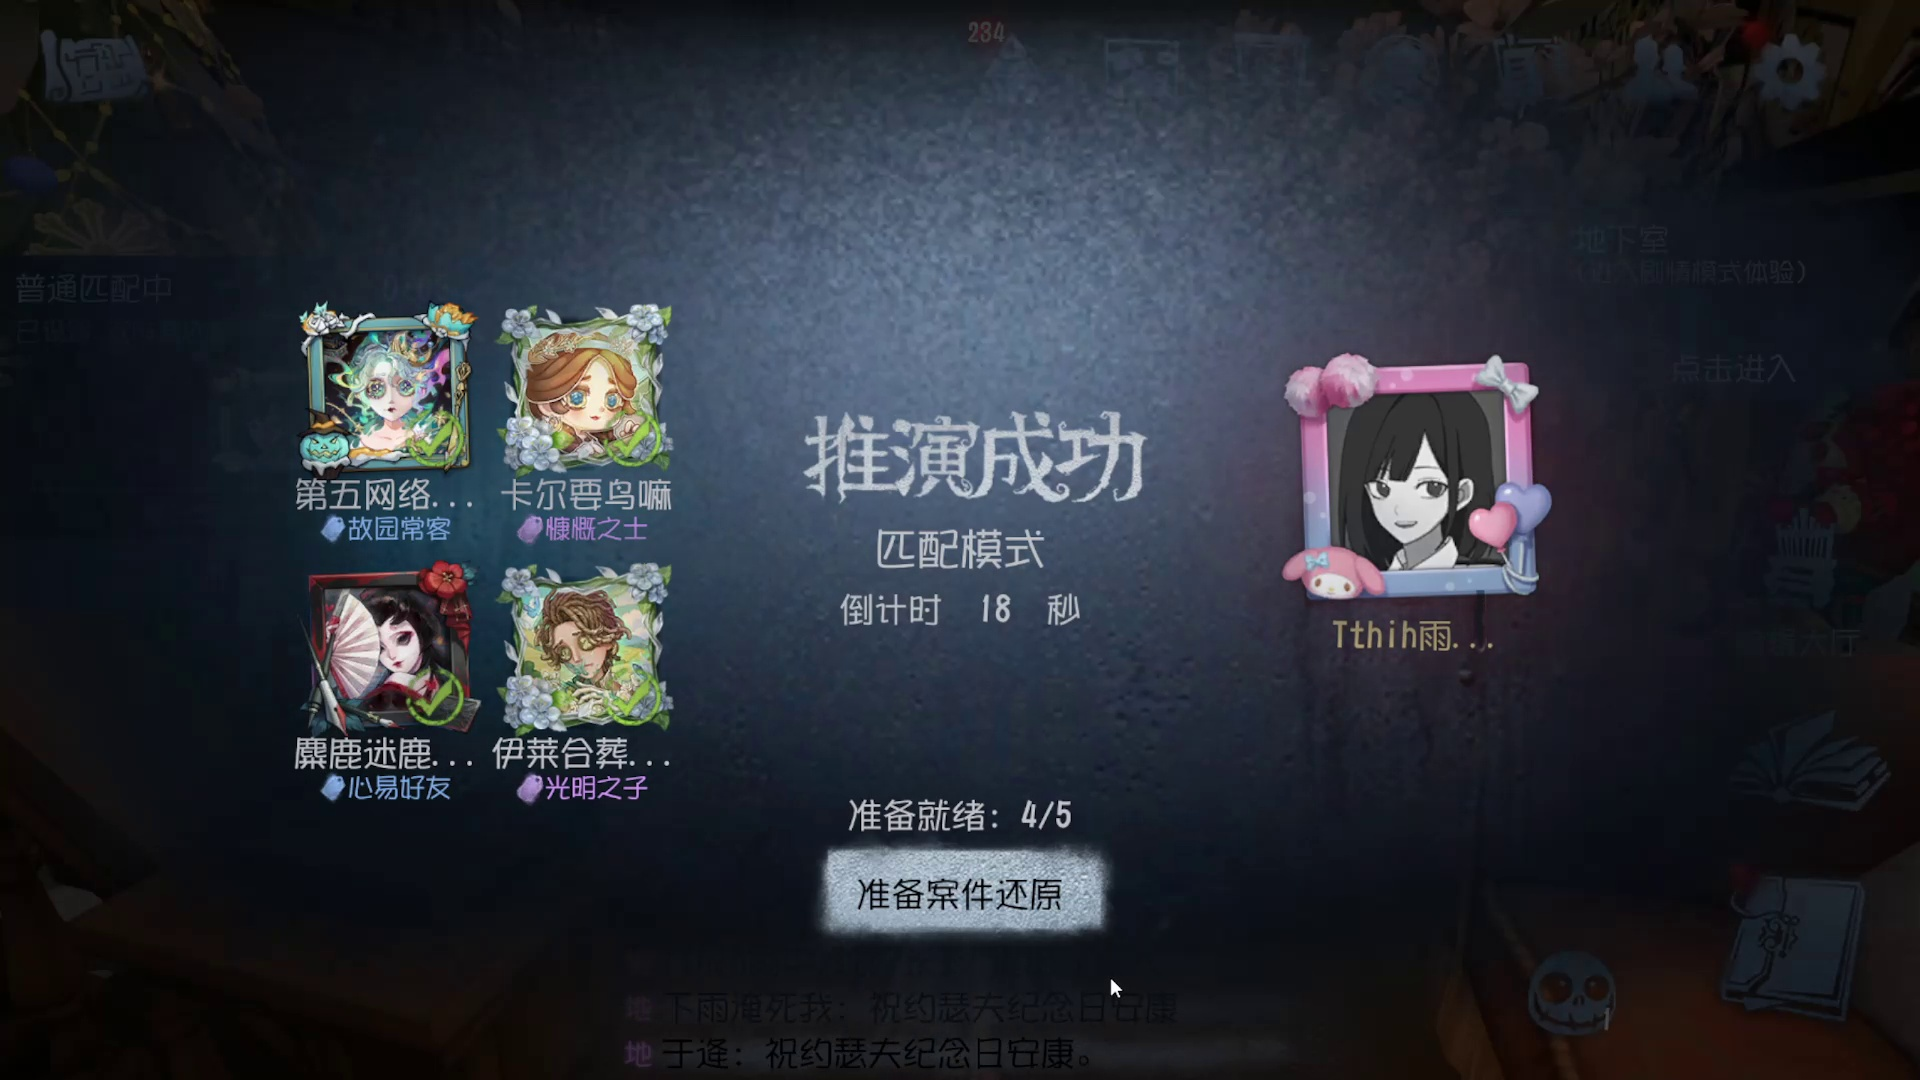准备案件还原: (793, 831, 1147, 952)
